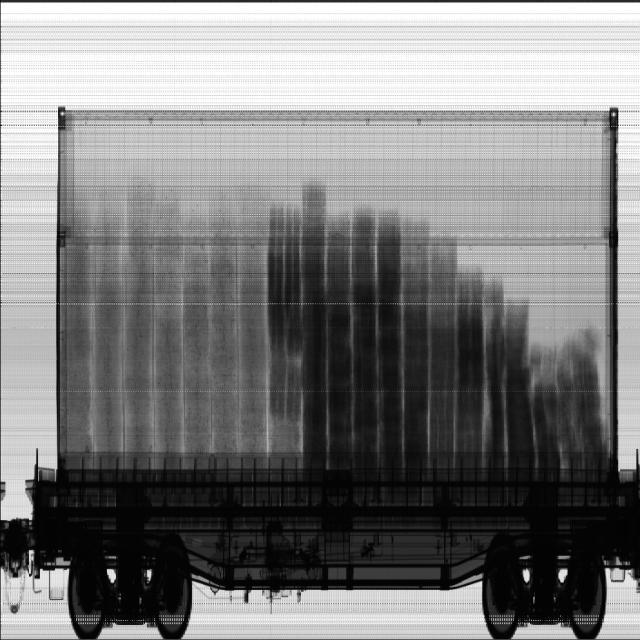textiles: (60, 176, 299, 464)
